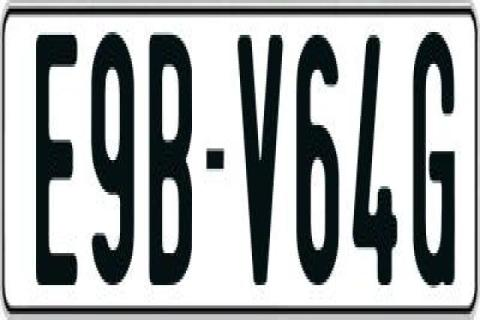0: (352, 32, 402, 291), (90, 24, 134, 288), (297, 32, 341, 291)
B: (148, 29, 192, 291)
E: (32, 32, 80, 294)
G: (414, 32, 458, 288)
V: (236, 32, 284, 288)
